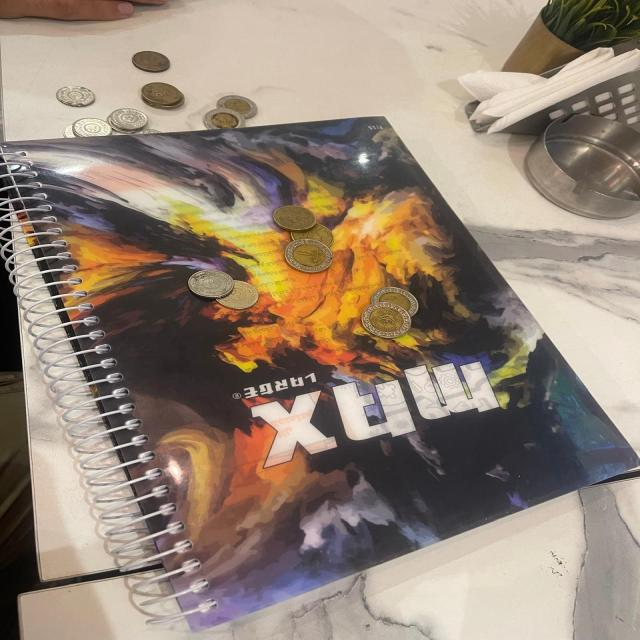Half Pound: (287, 217, 338, 250), (269, 202, 318, 232), (137, 80, 190, 106), (126, 46, 174, 74), (203, 106, 248, 132), (214, 93, 260, 117)
One Pound: (360, 297, 410, 341), (282, 237, 336, 273), (368, 283, 422, 318)
quarter pound: (186, 268, 236, 300), (214, 278, 262, 310), (54, 84, 98, 108), (108, 105, 148, 131), (71, 115, 111, 139), (130, 126, 160, 138)
